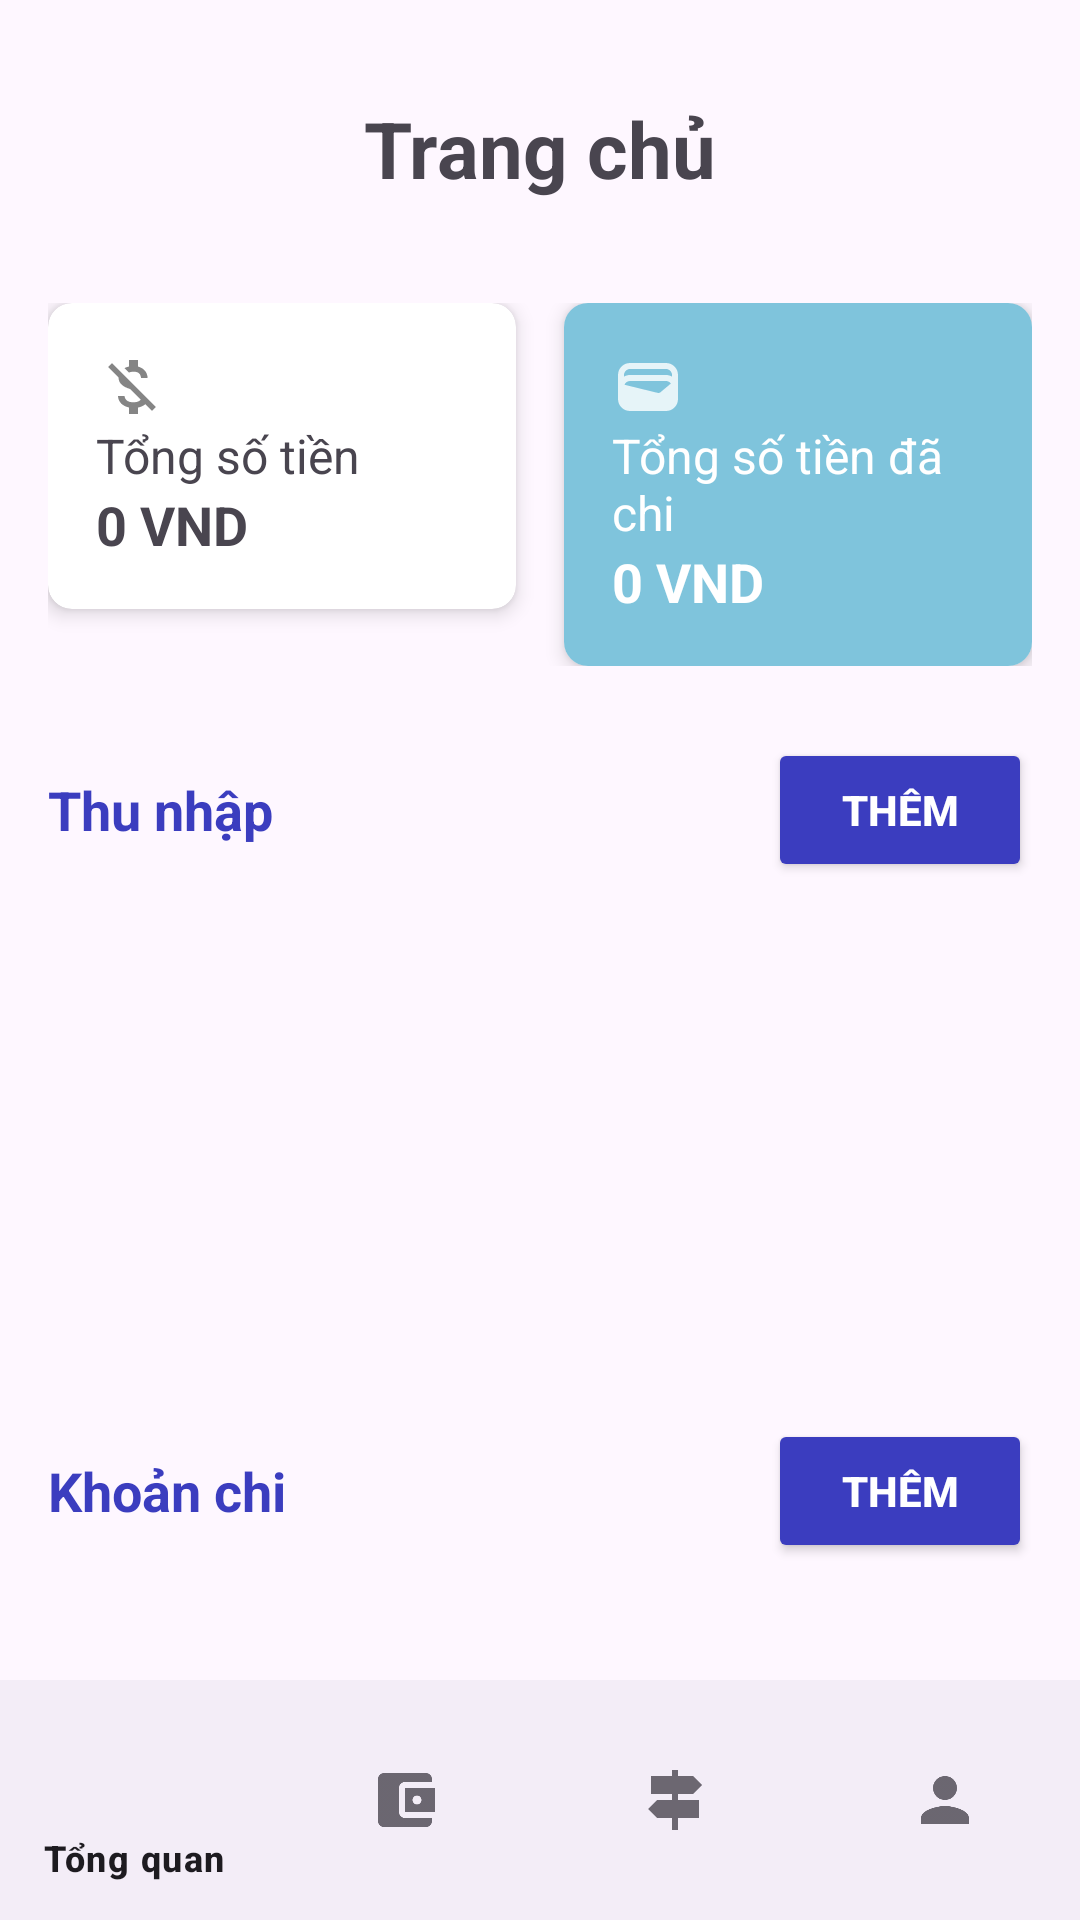

Locate icon controls on the screen. Image size 1080x1920, boxes as (x1, y1, x2, y2).
money: (108, 360, 156, 414)
